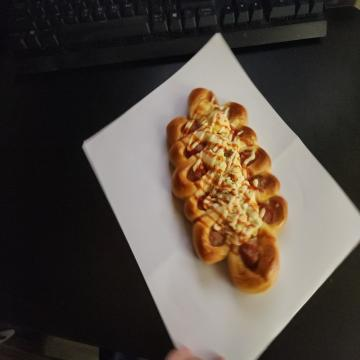pizza_bread: (166, 89, 286, 295)
